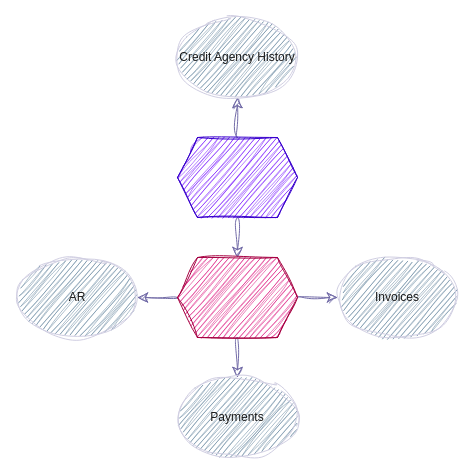
The diagram is 475 pixels wide and 475 high, and some of its shapes have lost their labels. Each missing label, with the box of its shape:
Unique Customers: (176, 256, 298, 338)
Unique Parents: (176, 136, 298, 218)
